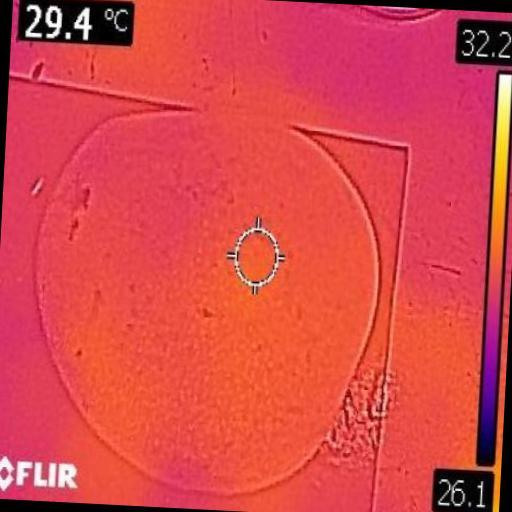alphanso: (36, 114, 379, 493)
